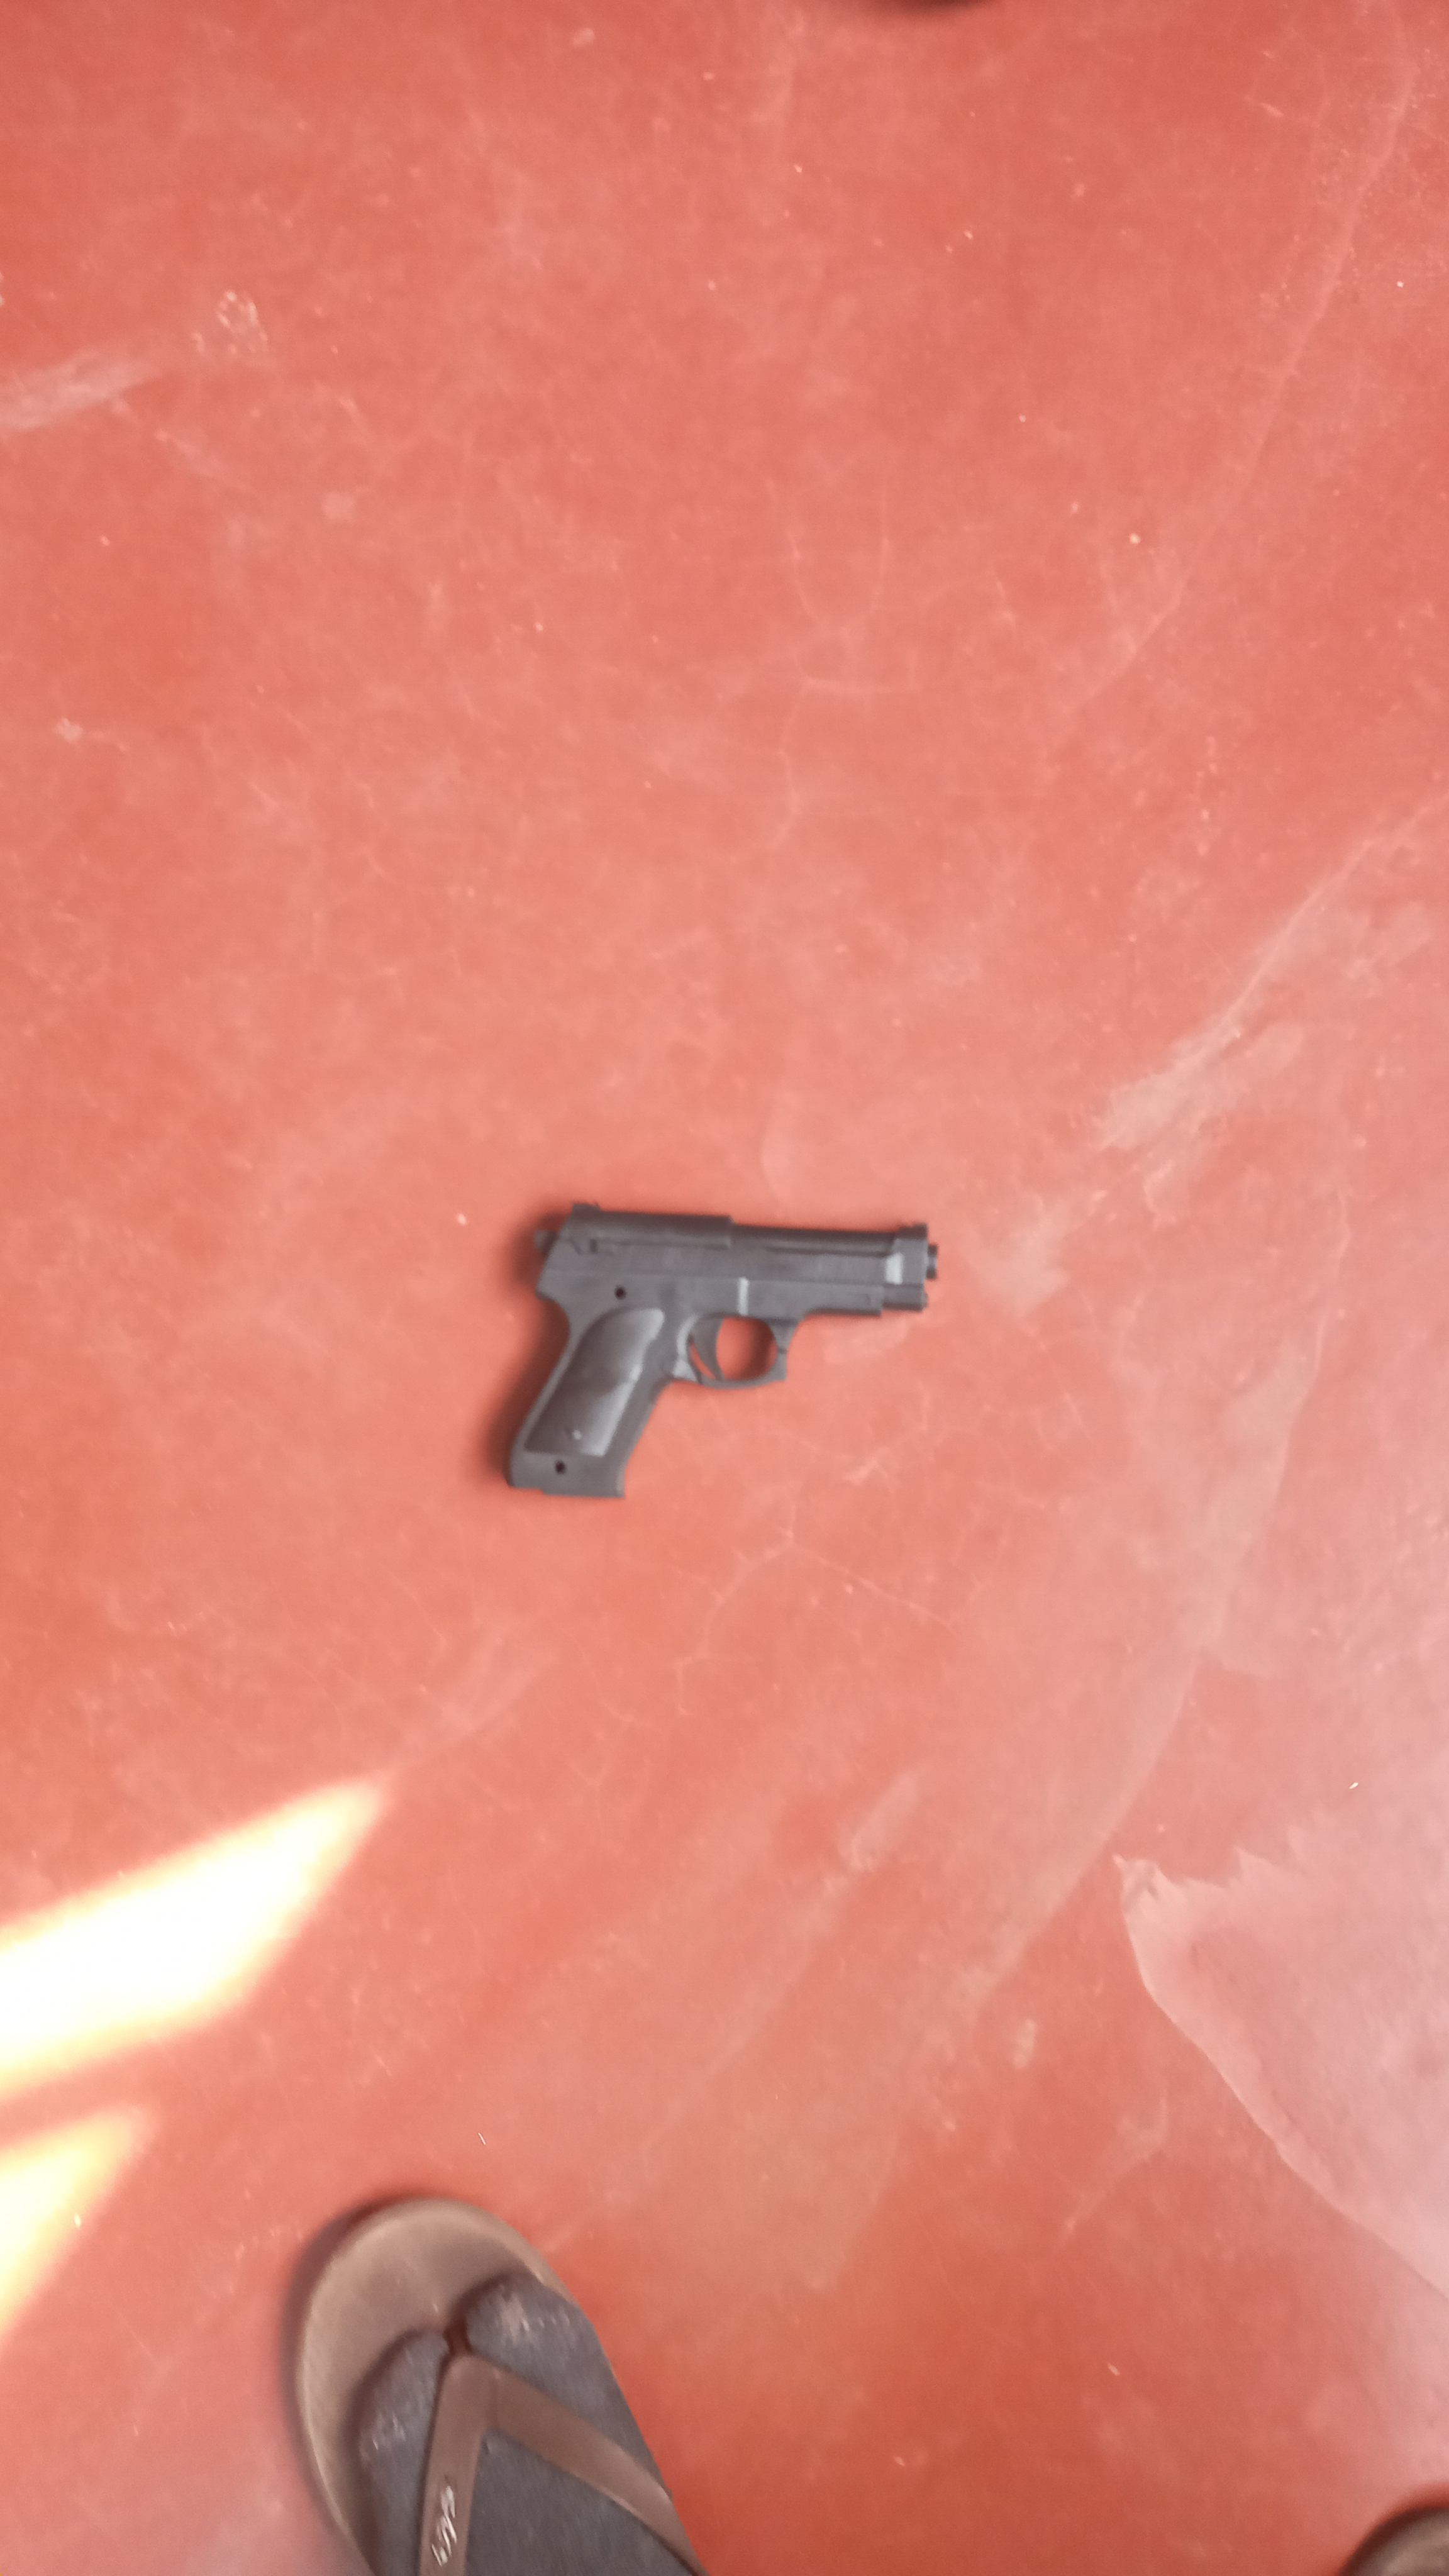Arma: (510, 1210, 950, 1398)
